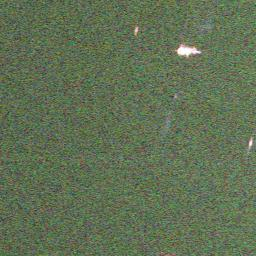Ship: (171, 43, 203, 56), (244, 135, 255, 151), (133, 24, 139, 36)
